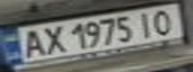1: (66, 20, 87, 50)
5: (115, 12, 139, 43)
7: (96, 16, 121, 46)
9: (81, 18, 103, 48)
A: (15, 27, 48, 60)
I: (133, 9, 160, 38)
O: (148, 7, 181, 35)
X: (36, 24, 69, 56)
